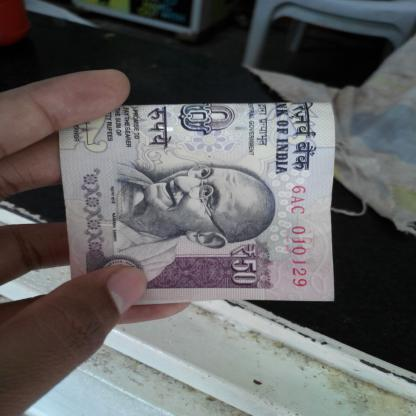Old50Front: (59, 102, 336, 304)
